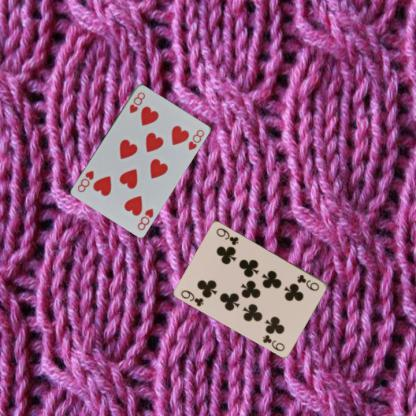8h: (134, 206, 154, 231), (127, 89, 146, 114)
9c: (179, 287, 205, 308), (294, 272, 320, 292)
